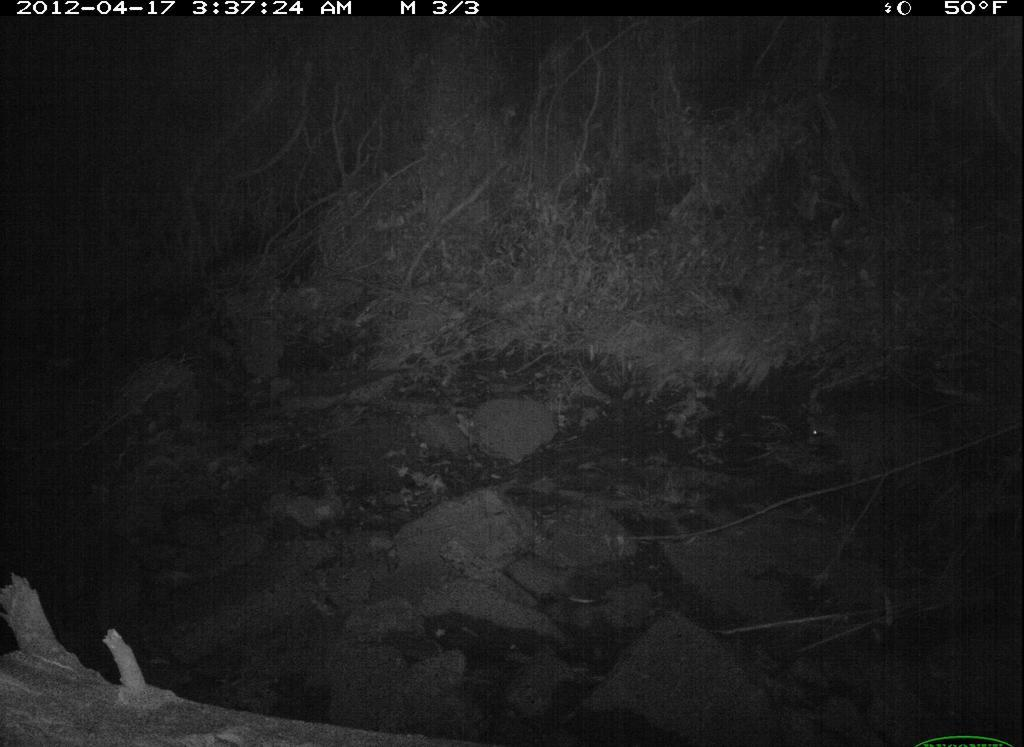raccoon: (797, 392, 972, 504)
